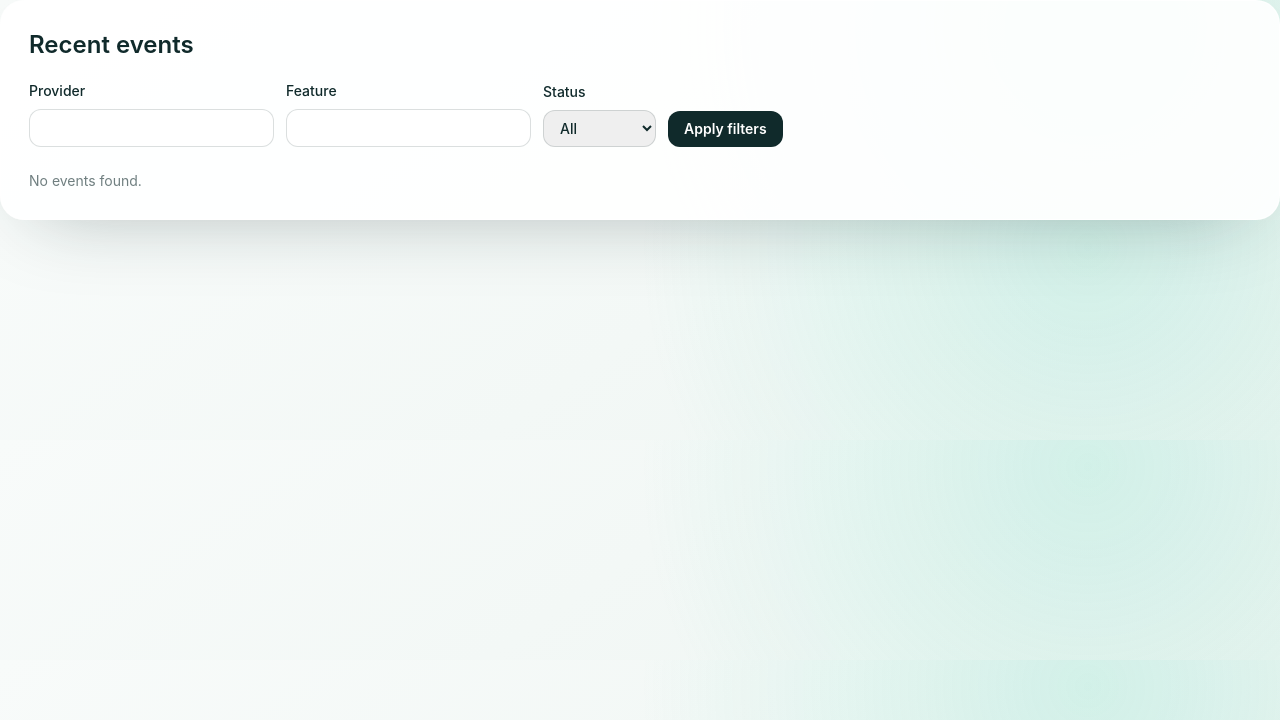
Scenario: RecentEvents › shows loading, empty and error states
The image size is (1280, 720).
Expected: the text "No events found." is shown, 29,172 -> 142,189
Click the button "Apply filters" at (725, 129), box 668,111 -> 783,147
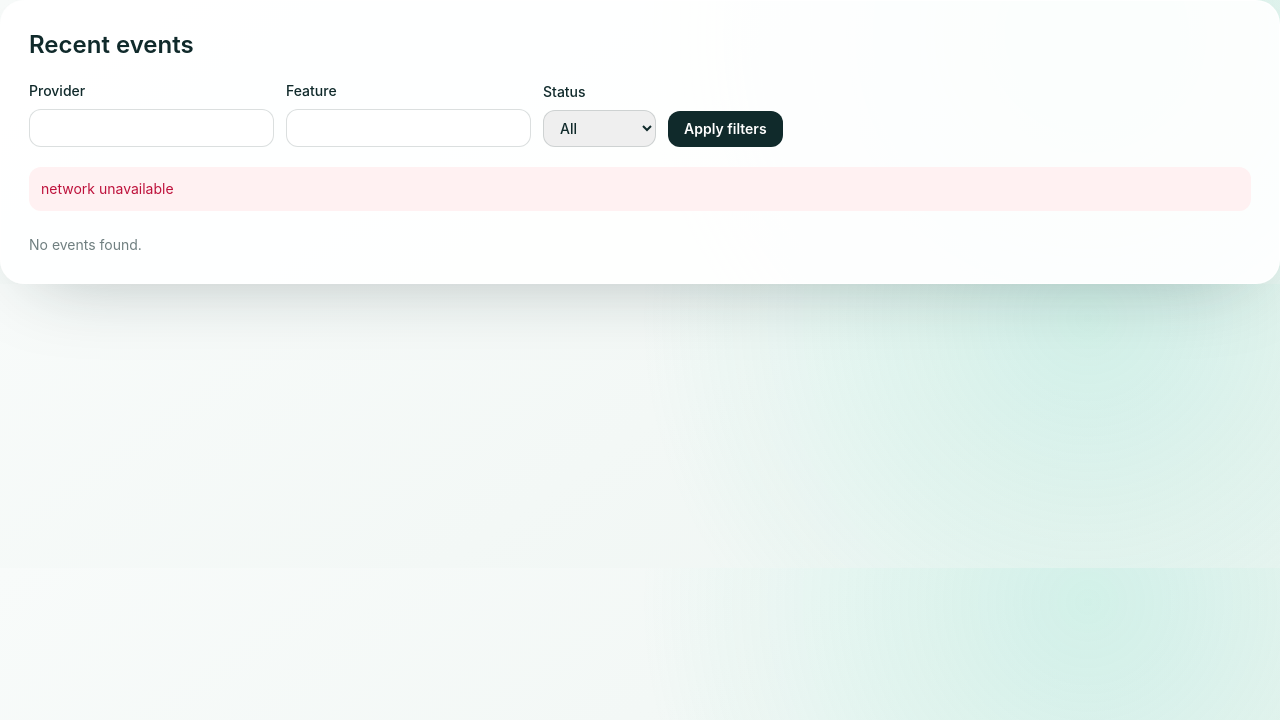
Now the message reads "network unavailable", box 41,180 -> 174,197
